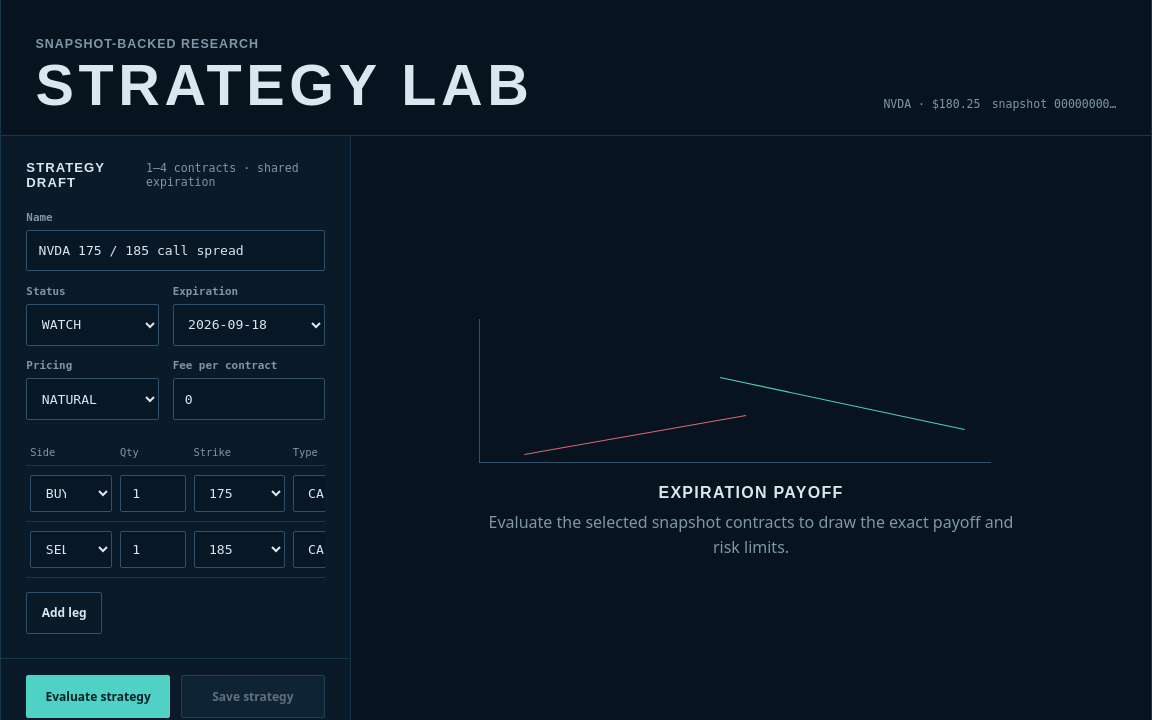
Scenario: StrategyLab › evaluates the canonical same-expiration vertical and renders returned evidence
Expected: the dropdown labelled "Expiration" shows "2026-09-18", [173, 304, 325, 346]
Expected: the 2nd dropdown named "Strike for leg 1" shows "175", [194, 475, 285, 512]
Click the button "Evaluate strategy" at (98, 696), box [26, 675, 170, 718]
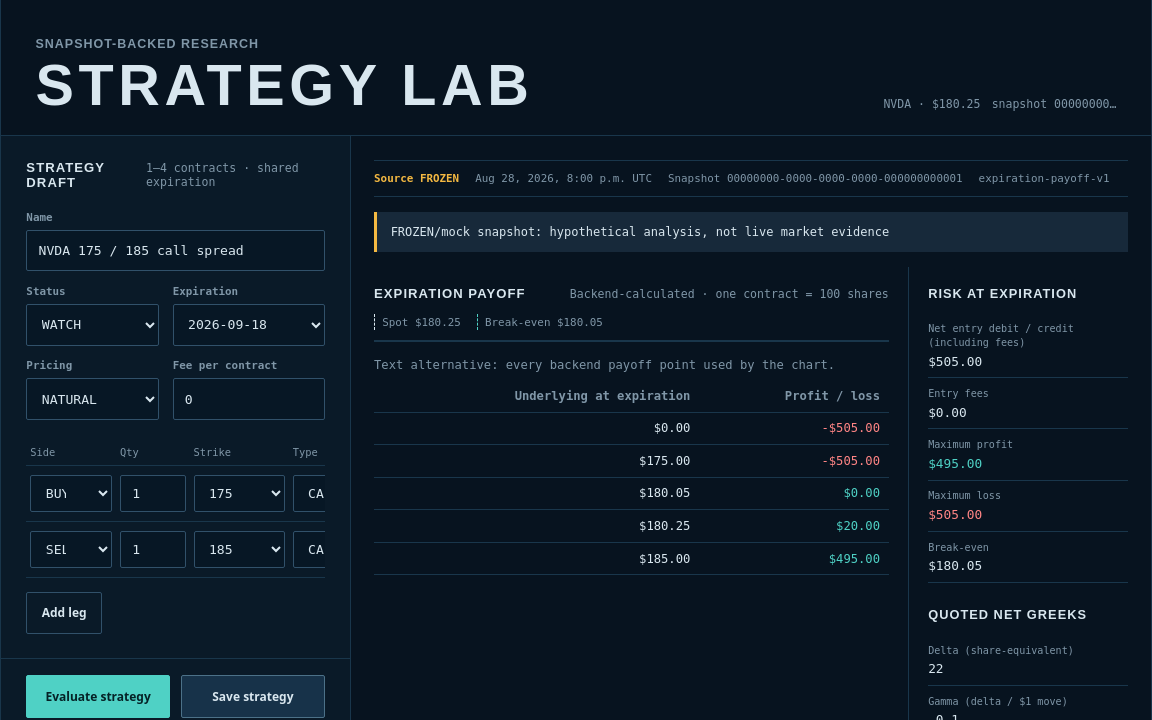
Expected: the text "Maximum loss" is shown, [928, 490, 1001, 502]
Expected: the text "FROZEN/mock snapshot: hypothetical analysis, not live market evidence" is shown, [374, 212, 1128, 252]
Expected: the text "Delta (share-equivalent)" is shown, [928, 645, 1074, 656]
